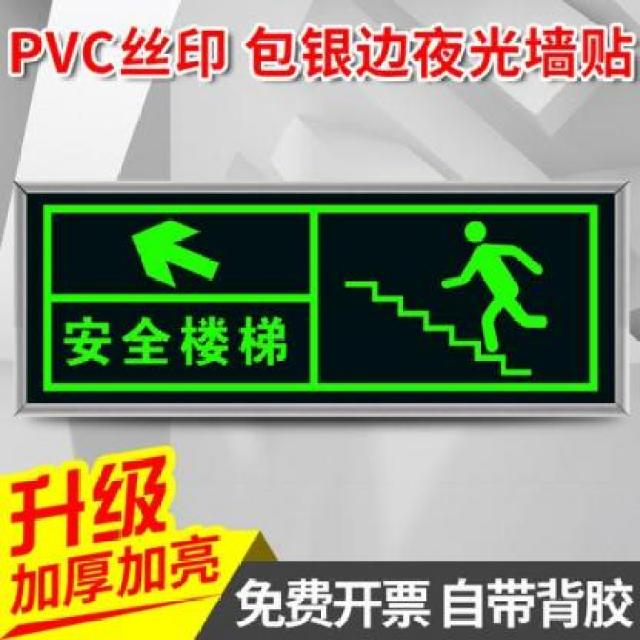exit_sign: (10, 172, 628, 423)
